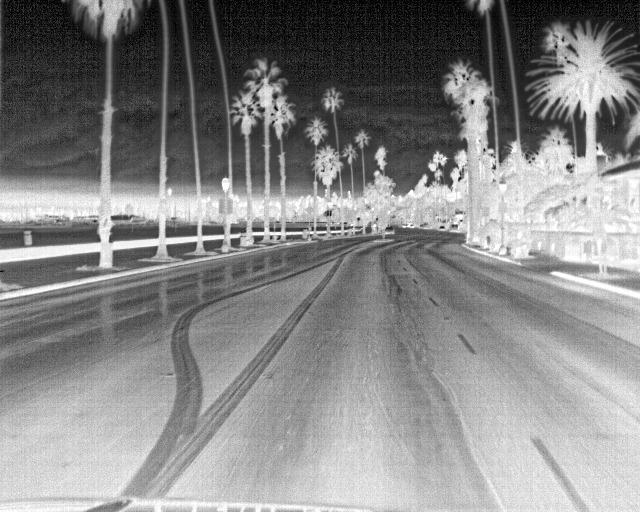car: (382, 224, 396, 236), (446, 223, 459, 235)
